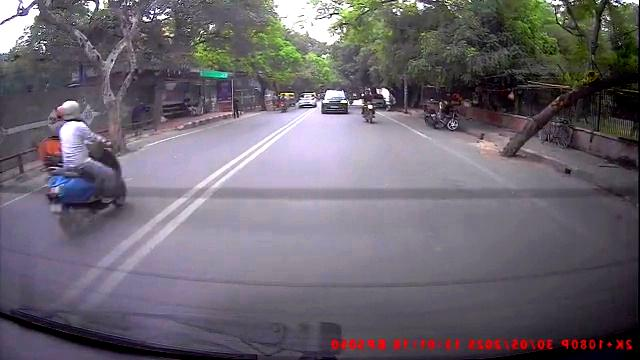motorcycle_with_helmet: (38, 98, 129, 240)
